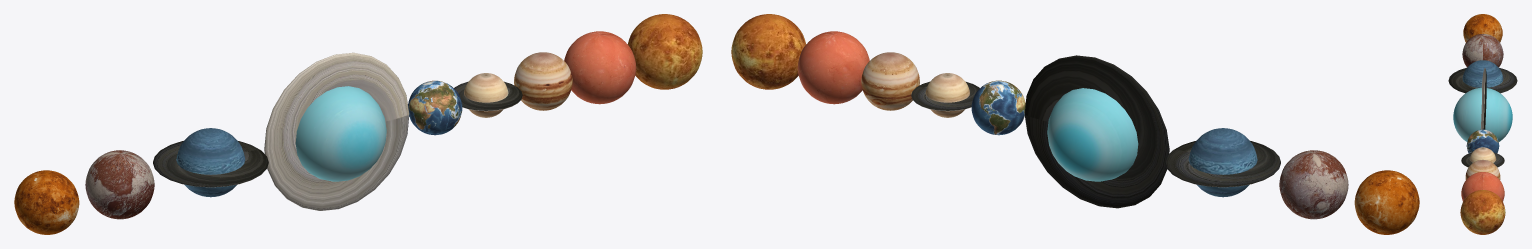
File: planets.glb
The picture shows the model from 3 angles, left to right: view 1: azimuth 30°, elevation 25°; view 2: azimuth 150°, elevation 25°; view 3: azimuth 270°, elevation 25°; orthographic projection. The views are drawn at different scales.
Visible parts, largest first — view 1: Torus, Sphere3, Sphere8, Sphere7, Sphere1, Sphere, Sphere2, Sphere6, Sphere4, Sphere5, Torus2; view 2: Torus, Sphere3, Sphere8, Sphere7, Sphere1, Sphere, Sphere2, Sphere6, Sphere4, Sphere5, Torus2; view 3: Sphere3, Sphere8, Sphere1, Torus, Sphere2, Sphere7, Sphere, Sphere4, Sphere6, Sphere5, Torus2.
Boxes of the visible parts, x1,y1,x2,y2 form: Torus: (153,52,409,210); Sphere3: (295,86,386,181); Sphere8: (627,14,702,89); Sphere7: (564,31,636,104); Sphere1: (85,150,154,219); Sphere: (14,170,79,234); Sphere2: (176,128,245,197); Sphere6: (514,52,572,110); Sphere4: (408,80,462,135); Sphere5: (464,73,508,117); Torus2: (454,81,522,111); Torus: (1024,55,1280,208); Sphere3: (1047,88,1138,181); Sphere8: (731,14,806,89); Sphere7: (797,31,869,104); Sphere1: (1279,150,1348,219); Sphere: (1354,170,1419,234); Sphere2: (1188,128,1257,197); Sphere6: (861,52,919,110); Sphere4: (971,80,1025,135); Sphere5: (925,73,969,117); Torus2: (911,81,979,111); Sphere3: (1453,87,1512,141); Sphere8: (1460,190,1505,234); Sphere1: (1462,34,1503,67); Torus: (1448,67,1517,129); Sphere2: (1462,60,1503,87); Sphere7: (1461,172,1504,201); Sphere: (1463,14,1502,42); Sphere4: (1466,129,1499,153); Sphere6: (1465,159,1500,179); Sphere5: (1469,147,1496,162); Torus2: (1461,152,1504,167).
Size of the model in its own units: 7.85 by 1.68 by 1.16.
Materials: 11 (11 with a texture image).
